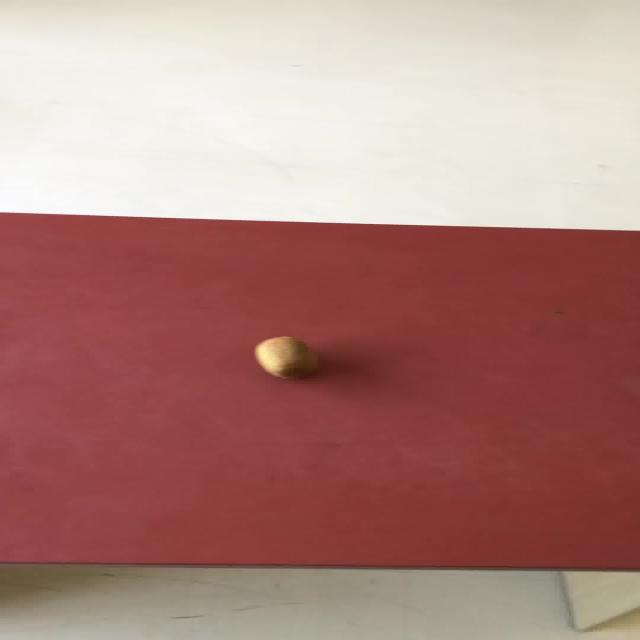kiwi: (252, 335, 317, 379)
